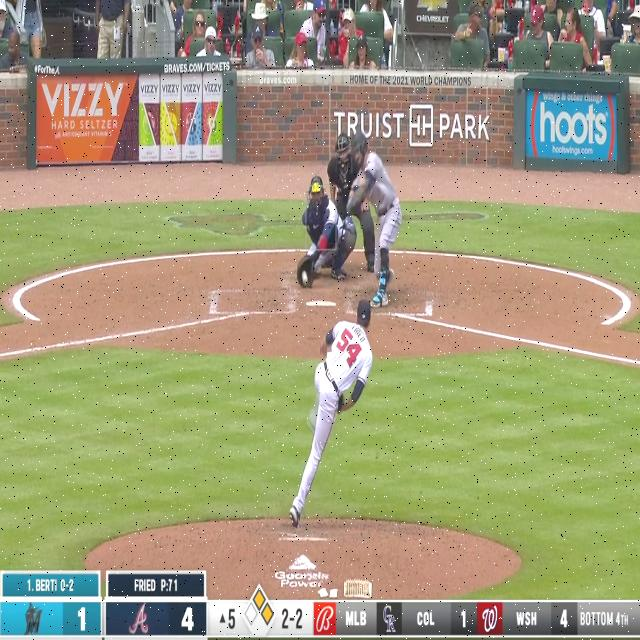baseball: (302, 271, 308, 286)
